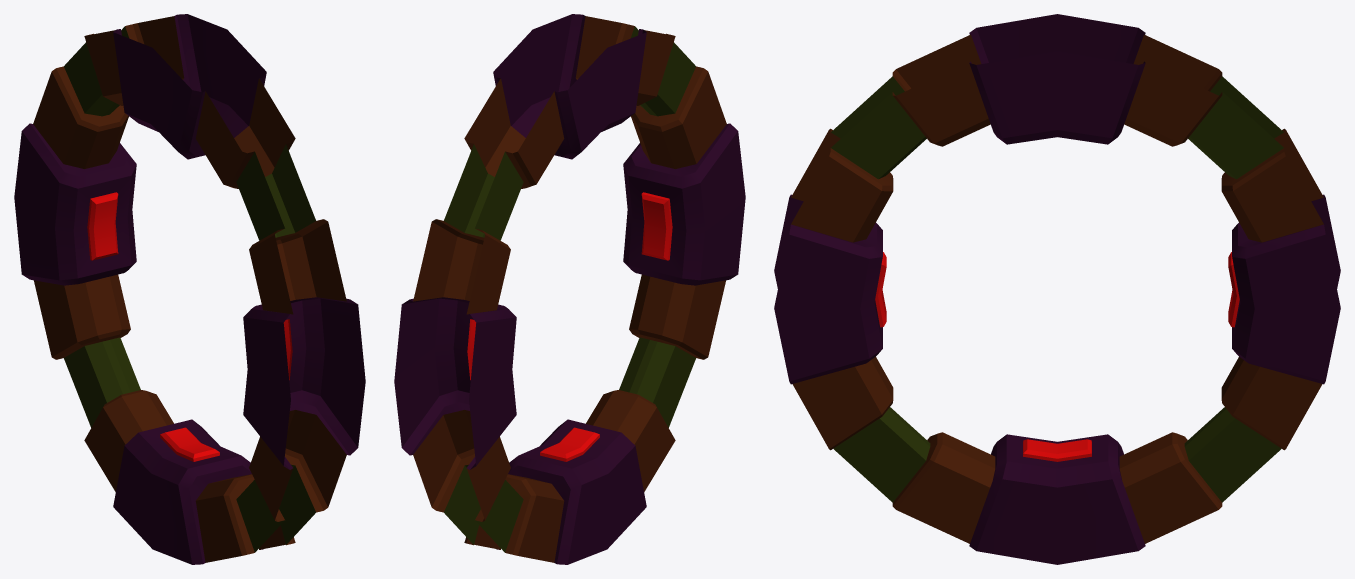
Rendered from A_Anneau.fbx.
3 renders of one model, left to right at view 1: azimuth 30°, elevation 25°; view 2: azimuth 150°, elevation 25°; view 3: azimuth 270°, elevation 25°, orthographic. The views are drawn at different scales.
Parts seen in each view (by area): view 1: Anneau_Anime; view 2: Anneau_Anime; view 3: Anneau_Anime.
Boxes of the visible parts, box(x1,y1,x2,y2) form: Anneau_Anime: box(14, 14, 365, 564); Anneau_Anime: box(394, 14, 745, 564); Anneau_Anime: box(774, 14, 1340, 564).
Bounding box in the file's own units: 1.93 × 11.97 × 11.97.
